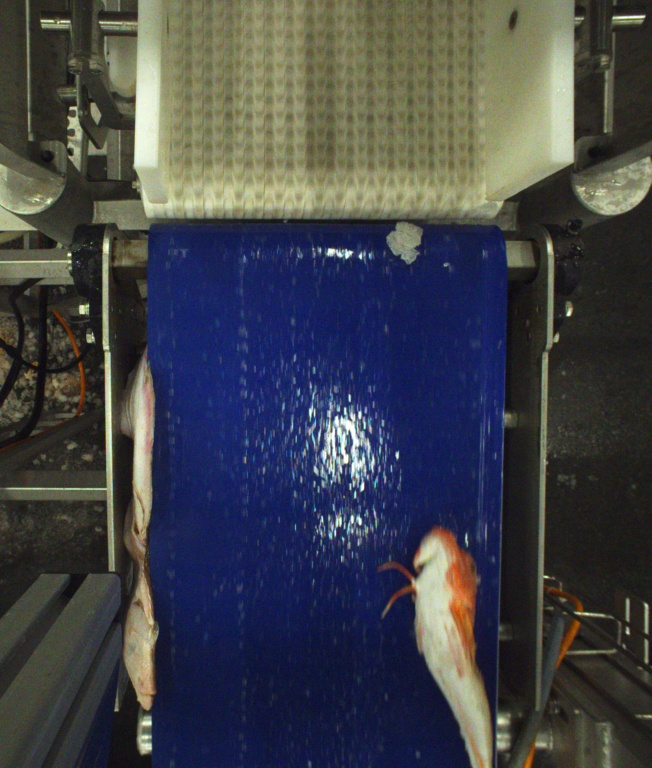GUU: (370, 524, 496, 767)
